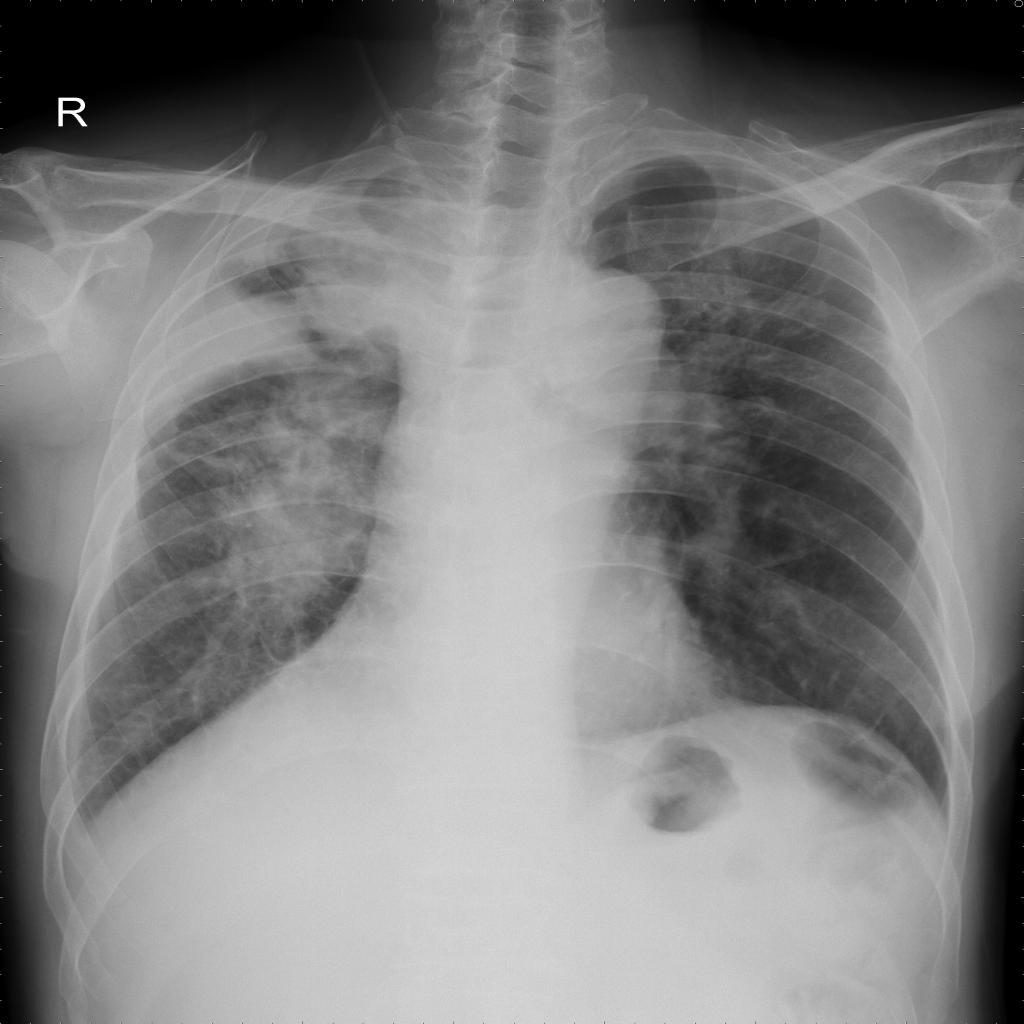Nodule: (268, 186, 398, 340)
